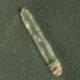ship: (0, 0, 28, 40)
